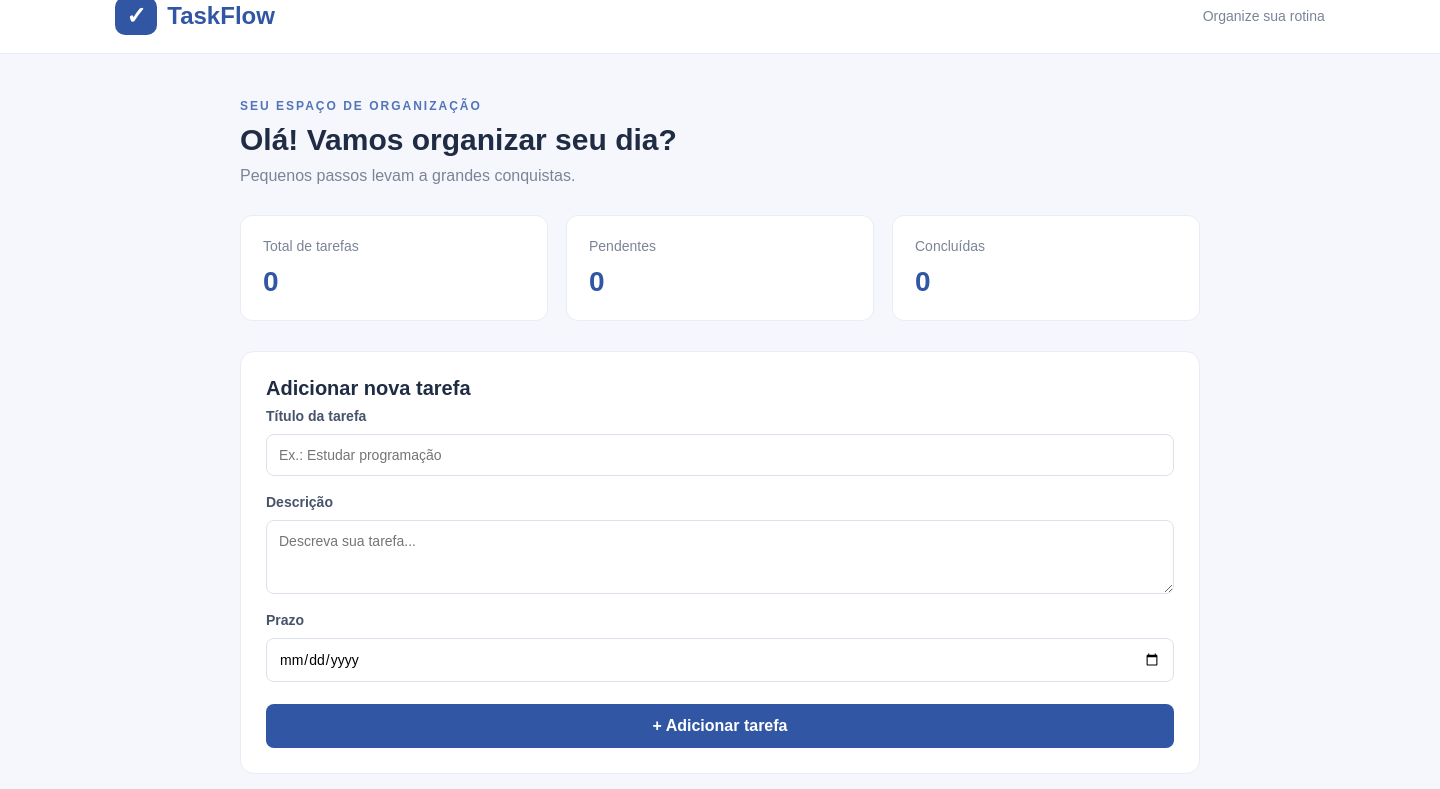
Testes do TaskFlow › deve concluir uma tarefa
In the field labelled "Título da tarefa": (720, 455) [266, 434, 1174, 476], type "Estudar React"
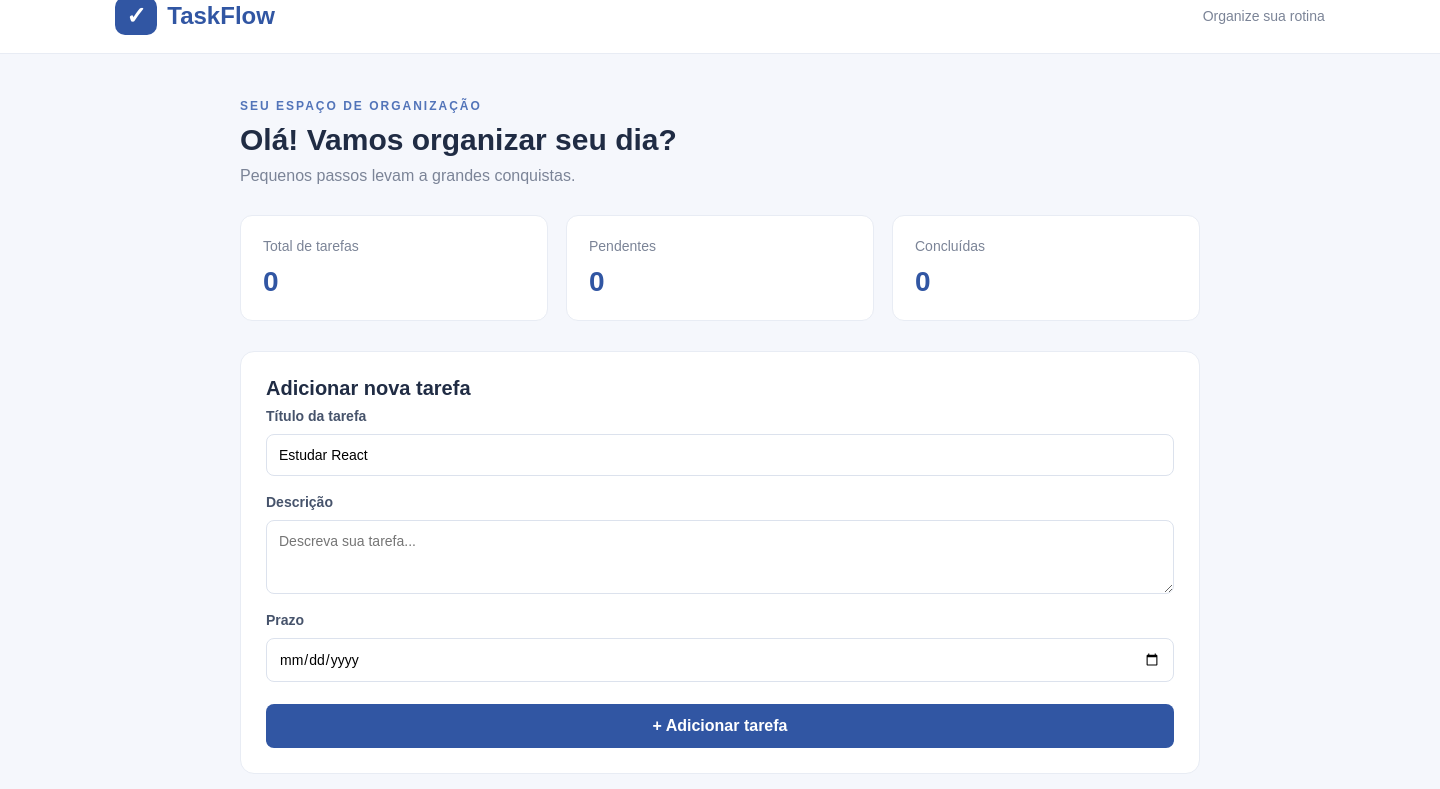
Click the button "+ Adicionar tarefa": click(720, 726) [266, 704, 1174, 748]
(page scrolled)
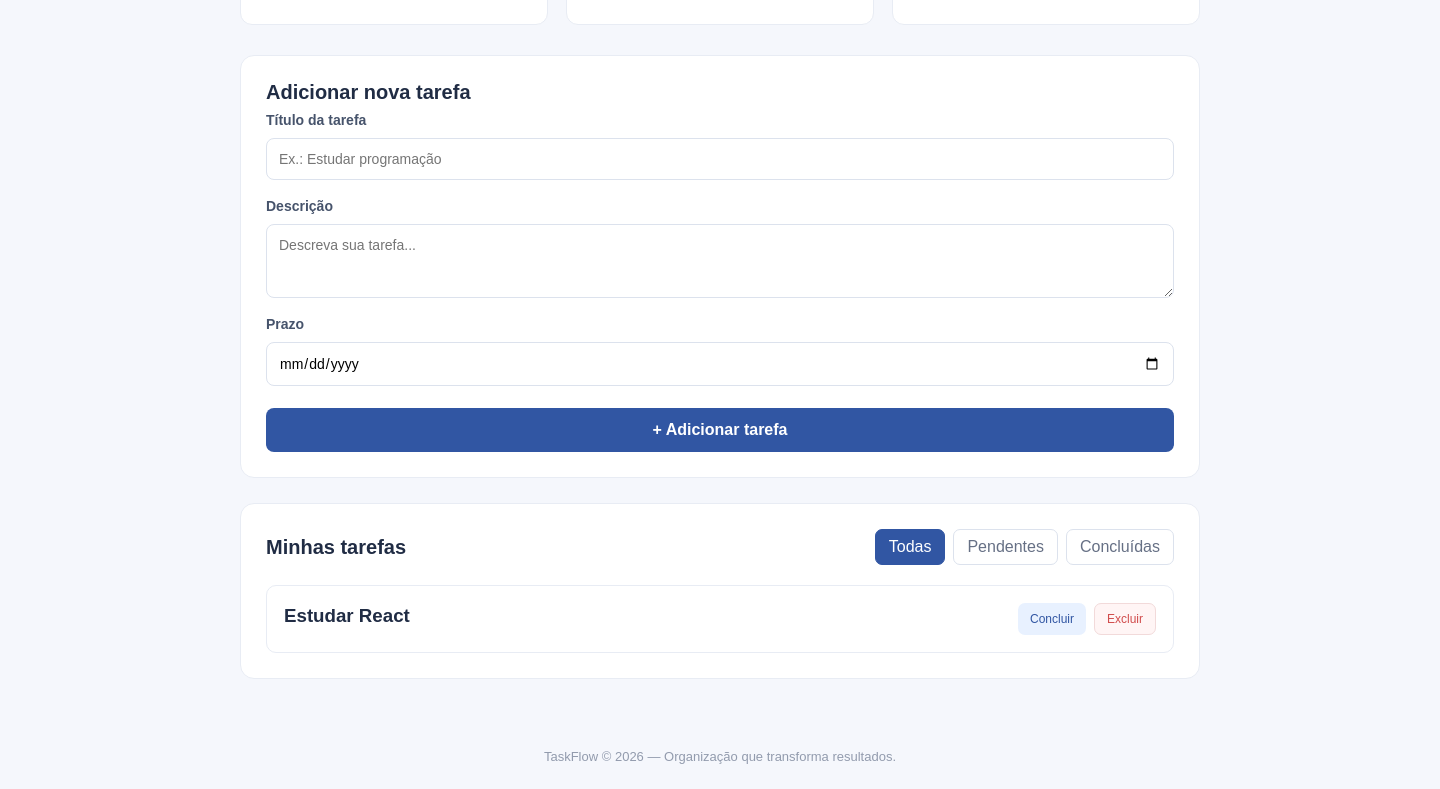
Click the button "Concluir": click(1052, 619) [1018, 603, 1086, 635]
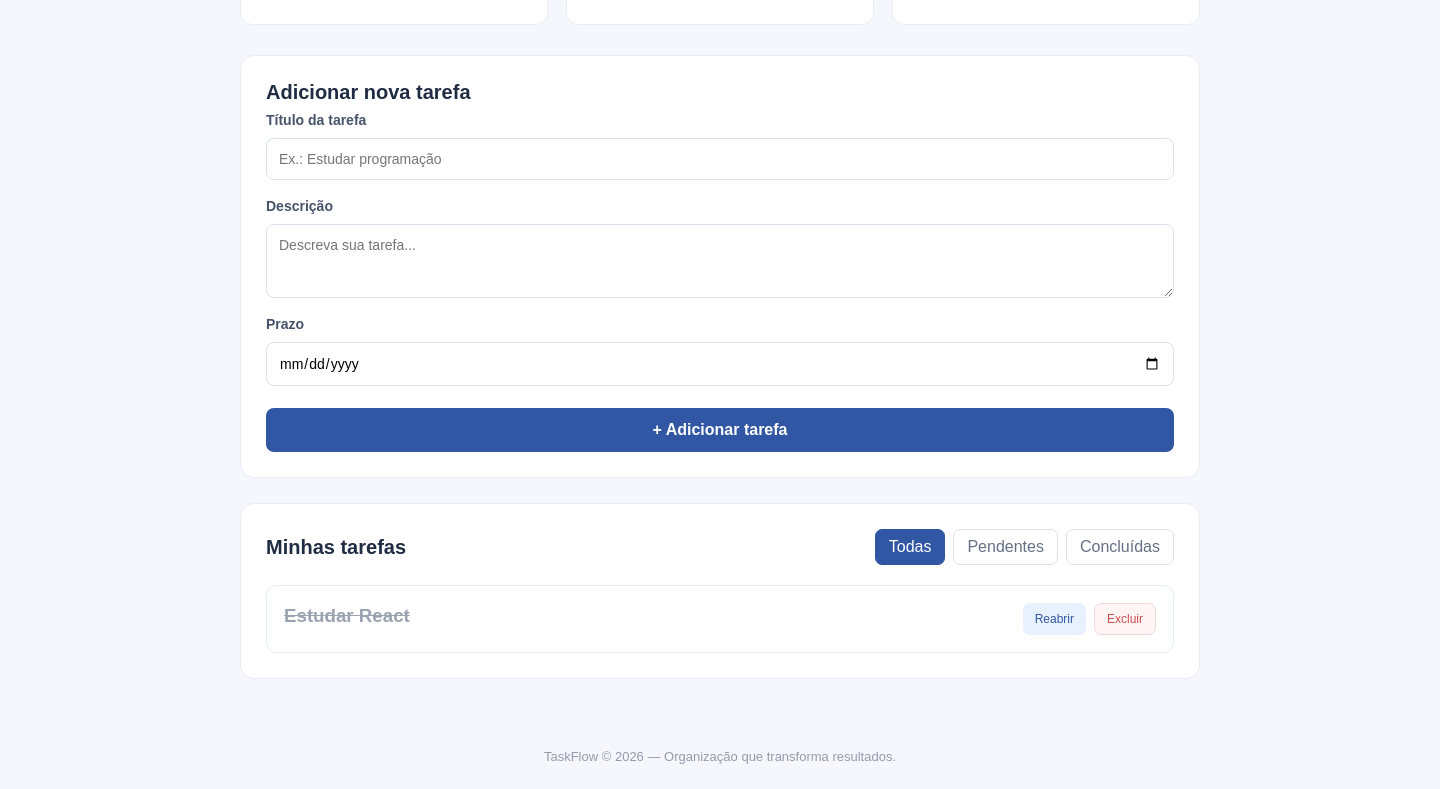
Expected: the button "Reabrir" is shown, [1023, 603, 1086, 635]
